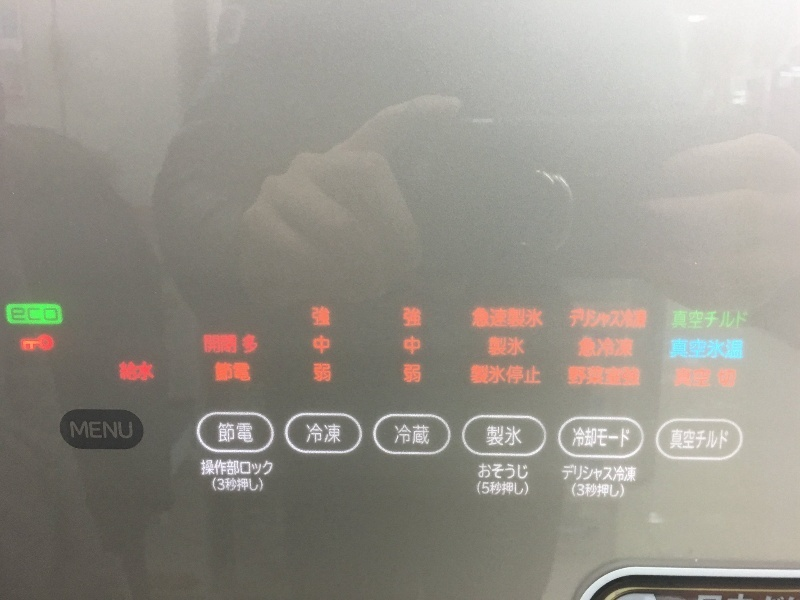text: (403, 307, 416, 384), (310, 306, 320, 382), (321, 306, 330, 382), (81, 418, 96, 441), (97, 418, 112, 441), (113, 418, 128, 441), (305, 421, 320, 444), (321, 421, 336, 444), (129, 360, 144, 382), (225, 361, 240, 383), (225, 422, 240, 444), (481, 306, 496, 328), (497, 306, 512, 328), (513, 306, 528, 328), (577, 308, 592, 330), (593, 308, 608, 330), (609, 308, 624, 330), (625, 308, 640, 330), (577, 426, 592, 448), (593, 426, 608, 448), (609, 426, 624, 448), (497, 336, 512, 357), (481, 365, 496, 386), (497, 365, 512, 386), (513, 365, 528, 386), (689, 368, 704, 389), (705, 368, 720, 389), (721, 368, 736, 389), (593, 337, 608, 358), (609, 337, 624, 358), (673, 429, 688, 450), (689, 429, 704, 450), (705, 429, 720, 450), (497, 425, 512, 446), (242, 333, 256, 355), (417, 307, 421, 384), (529, 306, 543, 328), (625, 367, 641, 386), (209, 334, 224, 354), (401, 425, 416, 445), (577, 366, 592, 386), (673, 340, 688, 360), (689, 340, 704, 360), (705, 340, 720, 360), (721, 340, 736, 360), (241, 422, 254, 444), (17, 304, 32, 323), (33, 304, 48, 323), (689, 310, 704, 329), (705, 310, 720, 329), (721, 310, 736, 329), (577, 464, 592, 483), (593, 464, 608, 483), (609, 464, 624, 483), (225, 334, 239, 354), (675, 368, 688, 389), (609, 365, 622, 386), (209, 459, 224, 477), (225, 459, 240, 477), (241, 459, 256, 477), (257, 459, 272, 477), (33, 333, 48, 351), (674, 310, 688, 329), (562, 464, 576, 483), (417, 425, 430, 445), (593, 366, 606, 386), (481, 463, 496, 480), (497, 463, 512, 480), (513, 463, 528, 480), (69, 418, 80, 441), (529, 365, 541, 386), (609, 483, 625, 498), (481, 480, 496, 496), (497, 480, 512, 496), (513, 480, 528, 496), (513, 336, 524, 357), (581, 337, 592, 358), (737, 310, 749, 329), (577, 483, 592, 498), (593, 483, 608, 498), (225, 478, 240, 493), (241, 478, 256, 493), (118, 360, 128, 382), (145, 360, 155, 382), (241, 361, 251, 383), (625, 464, 636, 483), (215, 361, 224, 383), (49, 304, 59, 323), (471, 365, 480, 386), (625, 337, 634, 358), (487, 425, 496, 446), (22, 333, 32, 351), (212, 478, 224, 493), (721, 429, 729, 450), (513, 425, 521, 446), (489, 336, 496, 357), (49, 333, 57, 351), (569, 366, 576, 386), (737, 340, 744, 360), (9, 304, 16, 323), (218, 422, 224, 444), (474, 306, 480, 328), (570, 308, 576, 330), (641, 308, 647, 330), (625, 426, 631, 448), (201, 459, 208, 477), (129, 418, 134, 441), (337, 421, 342, 444), (257, 478, 264, 493), (203, 334, 208, 354), (395, 425, 400, 445), (572, 426, 576, 448), (573, 483, 576, 498), (257, 333, 259, 355), (607, 365, 608, 386), (671, 429, 672, 450), (273, 459, 274, 477), (479, 480, 480, 496), (529, 480, 530, 496)
